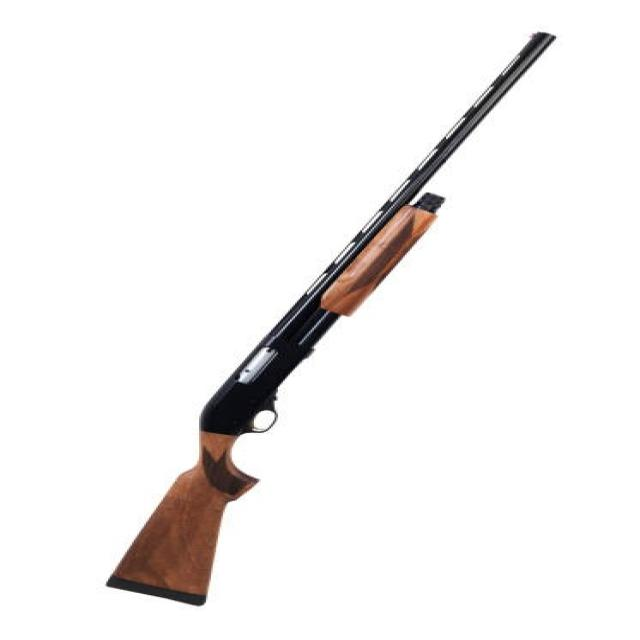rifle: (95, 25, 553, 608)
